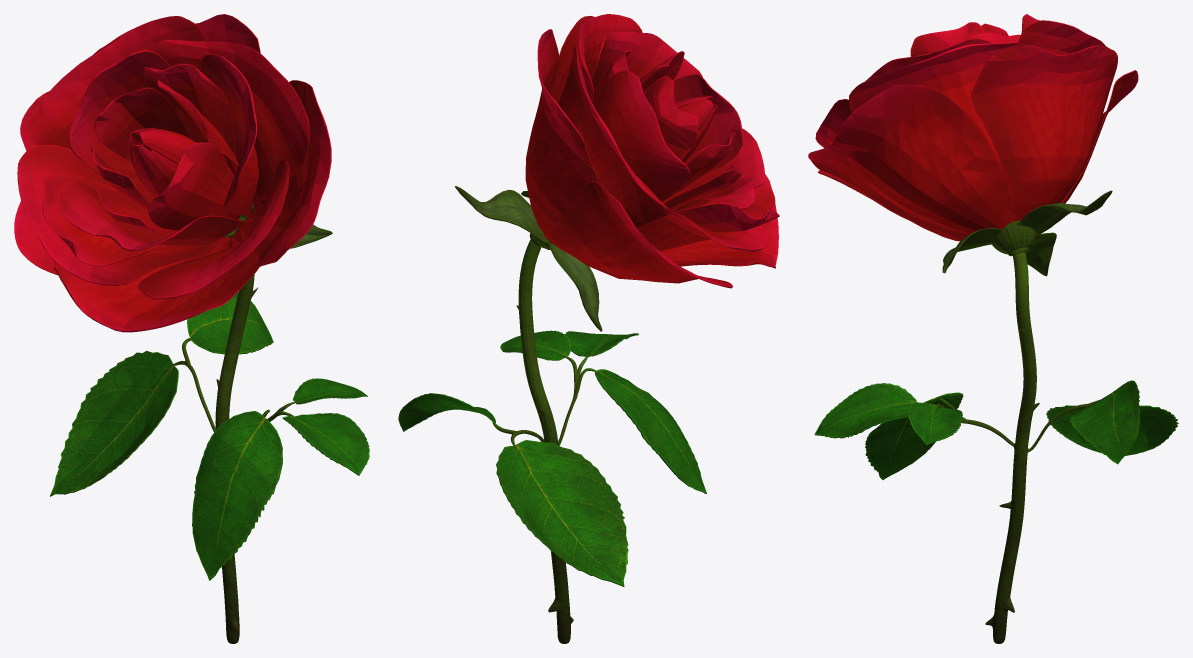
File: XBV47D0X9MNPQYA15BSYICAXS.fbx
The picture shows the model from 3 angles, left to right: view 1: azimuth 30°, elevation 25°; view 2: azimuth 150°, elevation 25°; view 3: azimuth 270°, elevation 25°; orthographic projection. The views are drawn at different scales.
Visible parts, largest first — view 1: Object_134590909_2048x2048.png; view 2: Object_134590909_2048x2048.png; view 3: Object_134590909_2048x2048.png.
Boxes of the visible parts, x1,y1,x2,y2 form: Object_134590909_2048x2048.png: (14,14,369,643); Object_134590909_2048x2048.png: (398,14,779,643); Object_134590909_2048x2048.png: (808,14,1178,643).
Size of the model in its own units: 1.23 by 2.5 by 1.39.
